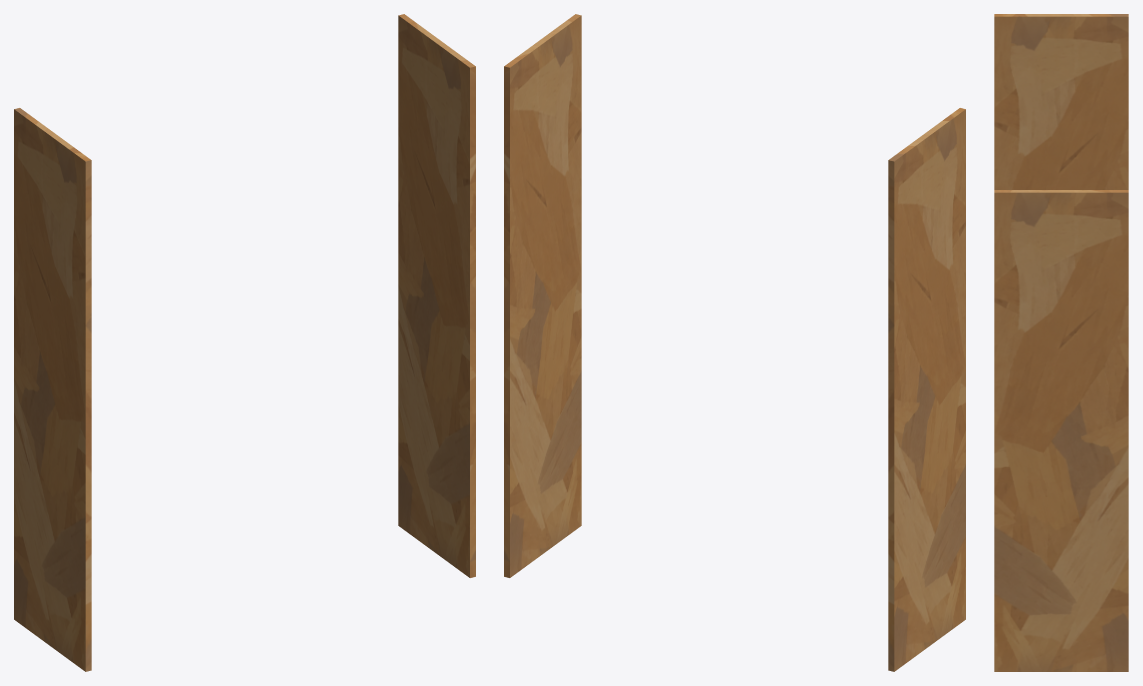
File: OpeningRevealSides.fbx
3 renders of one model, left to right at view 1: azimuth 30°, elevation 25°; view 2: azimuth 150°, elevation 25°; view 3: azimuth 270°, elevation 25°, orthographic. The views are drawn at different scales.
Parts seen in each view (by area): view 1: mdl_poi_OpeningRevealSides; view 2: mdl_poi_OpeningRevealSides; view 3: mdl_poi_OpeningRevealSides.
Part boxes in pixels (x1,y1,x2,y2): mdl_poi_OpeningRevealSides: (14, 14, 475, 671); mdl_poi_OpeningRevealSides: (504, 14, 965, 671); mdl_poi_OpeningRevealSides: (994, 14, 1128, 671).
Size of the model in its own units: 0.8 by 1 by 0.254.
